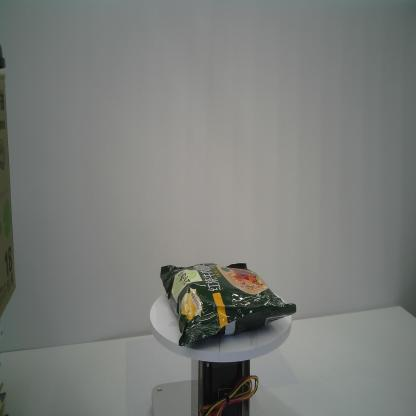Instant Noodles: (158, 260, 298, 350)
